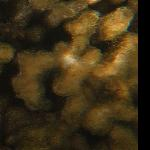dead: (1, 1, 138, 148)
